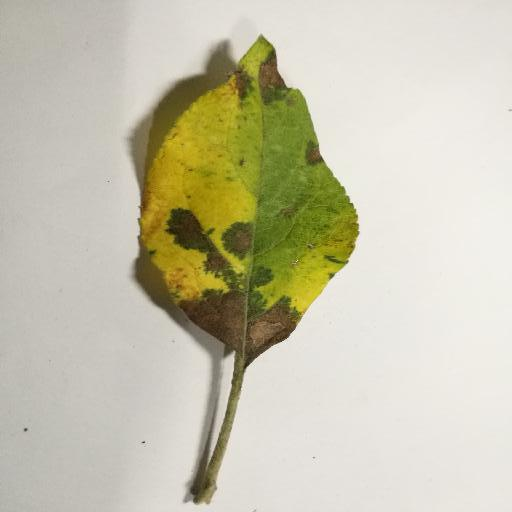Brown_Spot: (133, 205, 330, 356), (225, 55, 289, 99), (295, 139, 330, 164)
